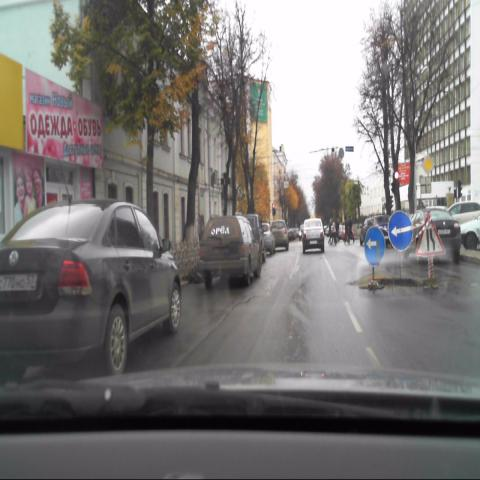1_20_2: (416, 217, 445, 256)
4_1_2_2: (387, 210, 413, 252), (363, 225, 386, 268)
